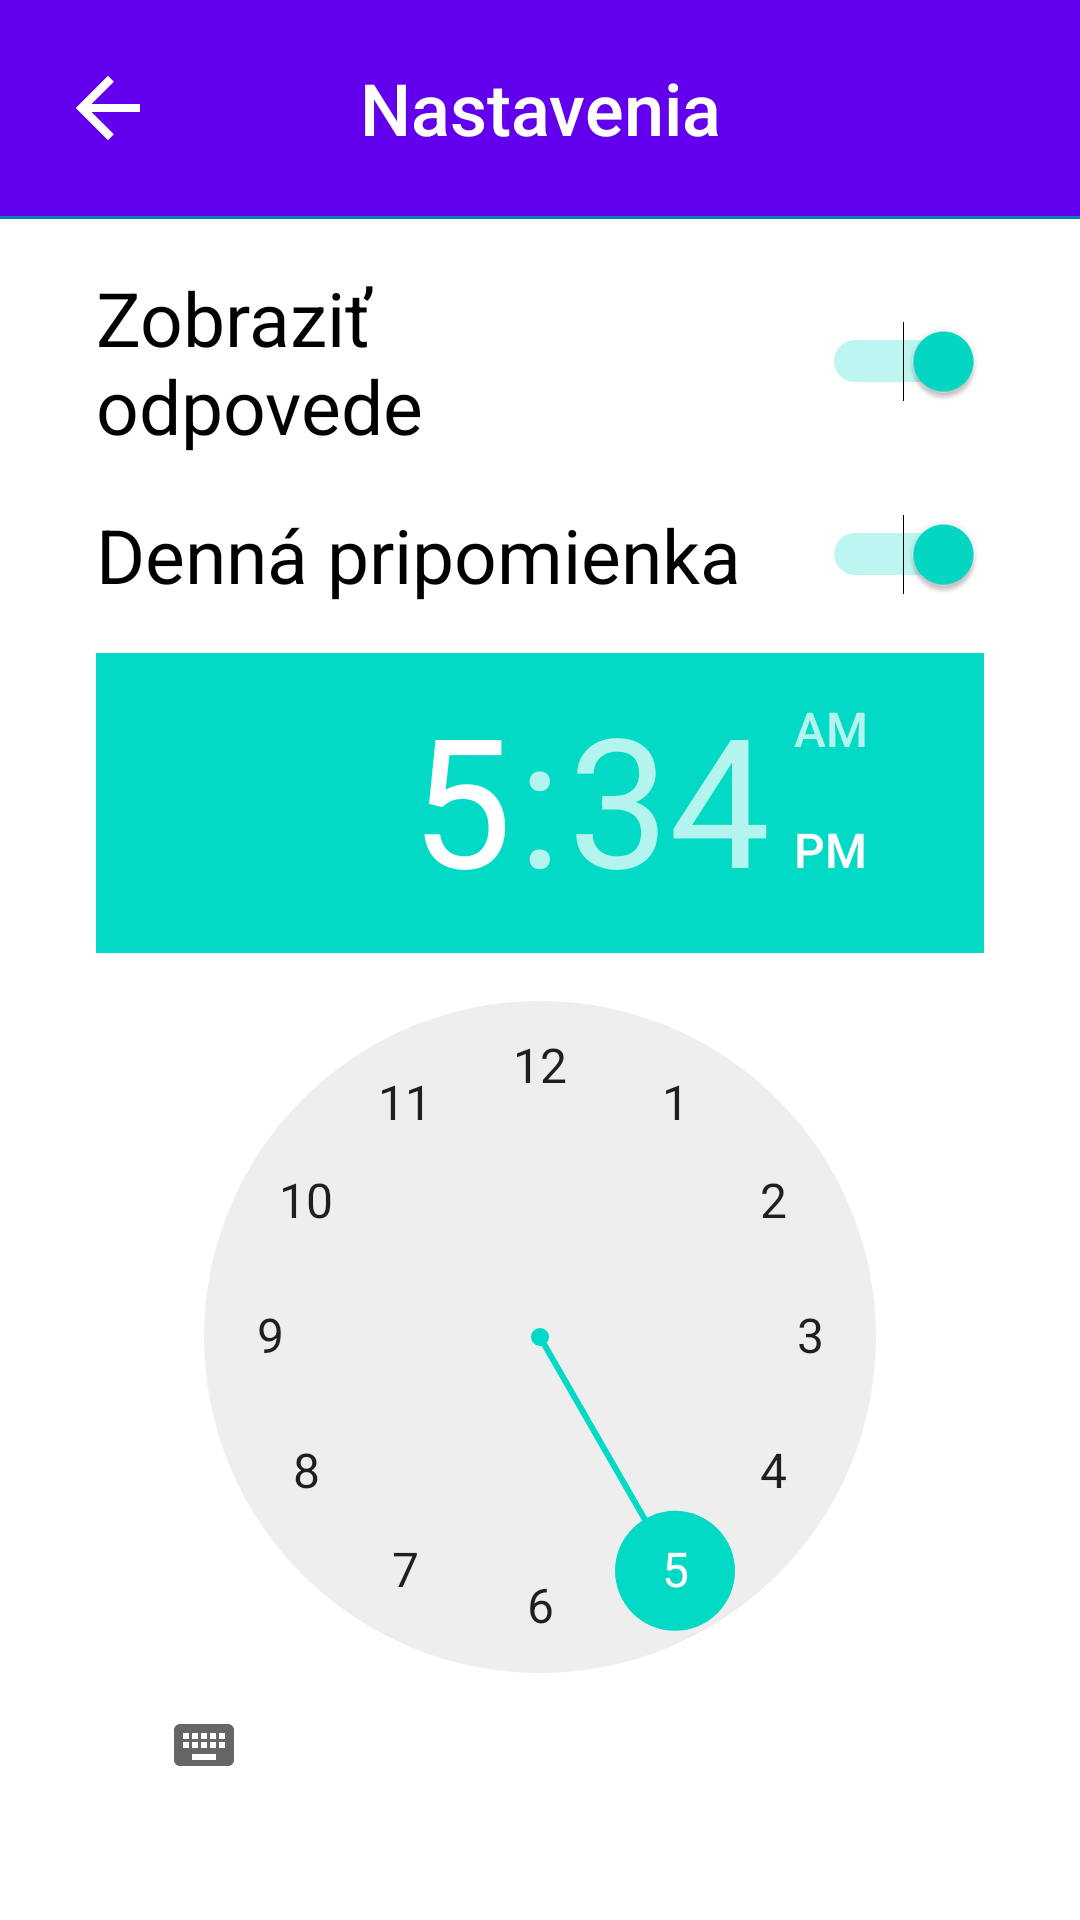

Where to tap for icons on this 1080*1920 app screen, as point (x, y):
arrow back: point (108, 108)
